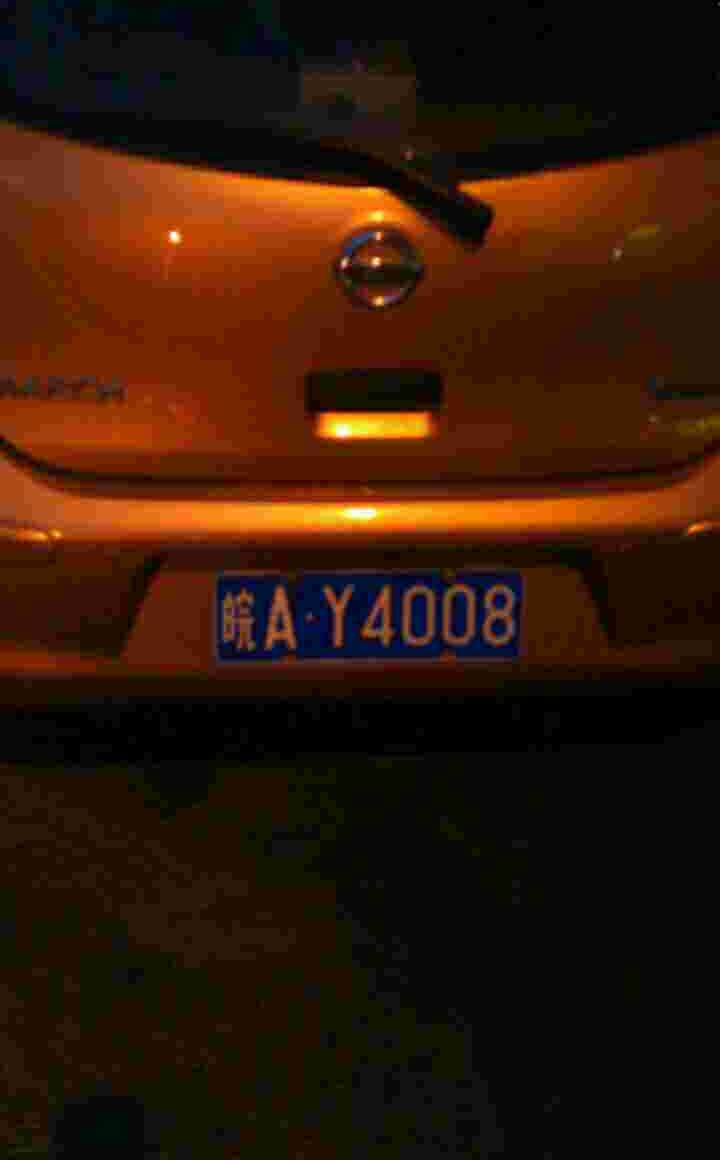license_plate: (203, 565, 511, 668)
